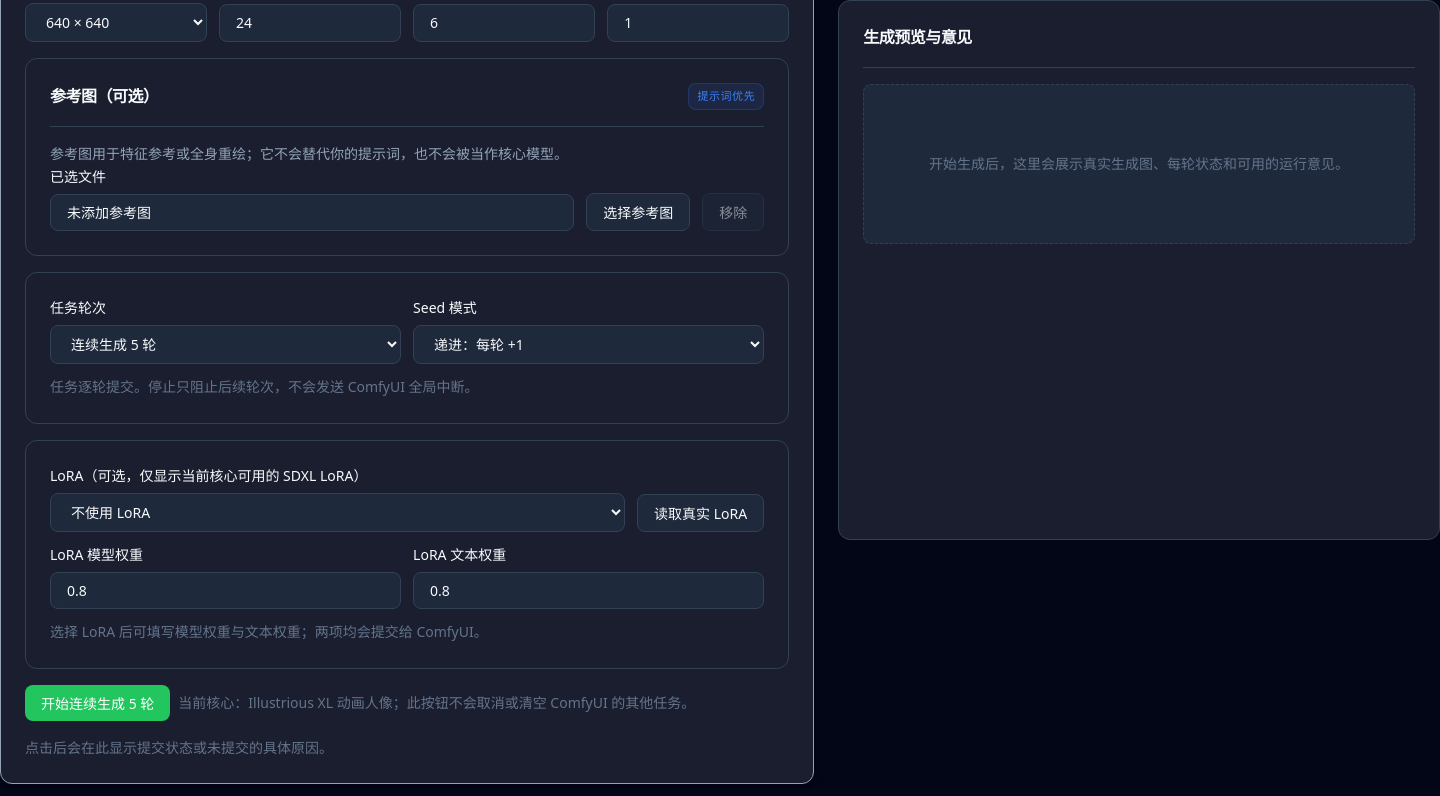
Test: ImageStudio › explains why a real task was not submitted when the positive prompt is empty
This screenshot has width=1440, height=796.
(page scrolled)
Click the button "开始连续生成 5 轮" at point(98, 703), box [25, 685, 170, 721]
(page scrolled)
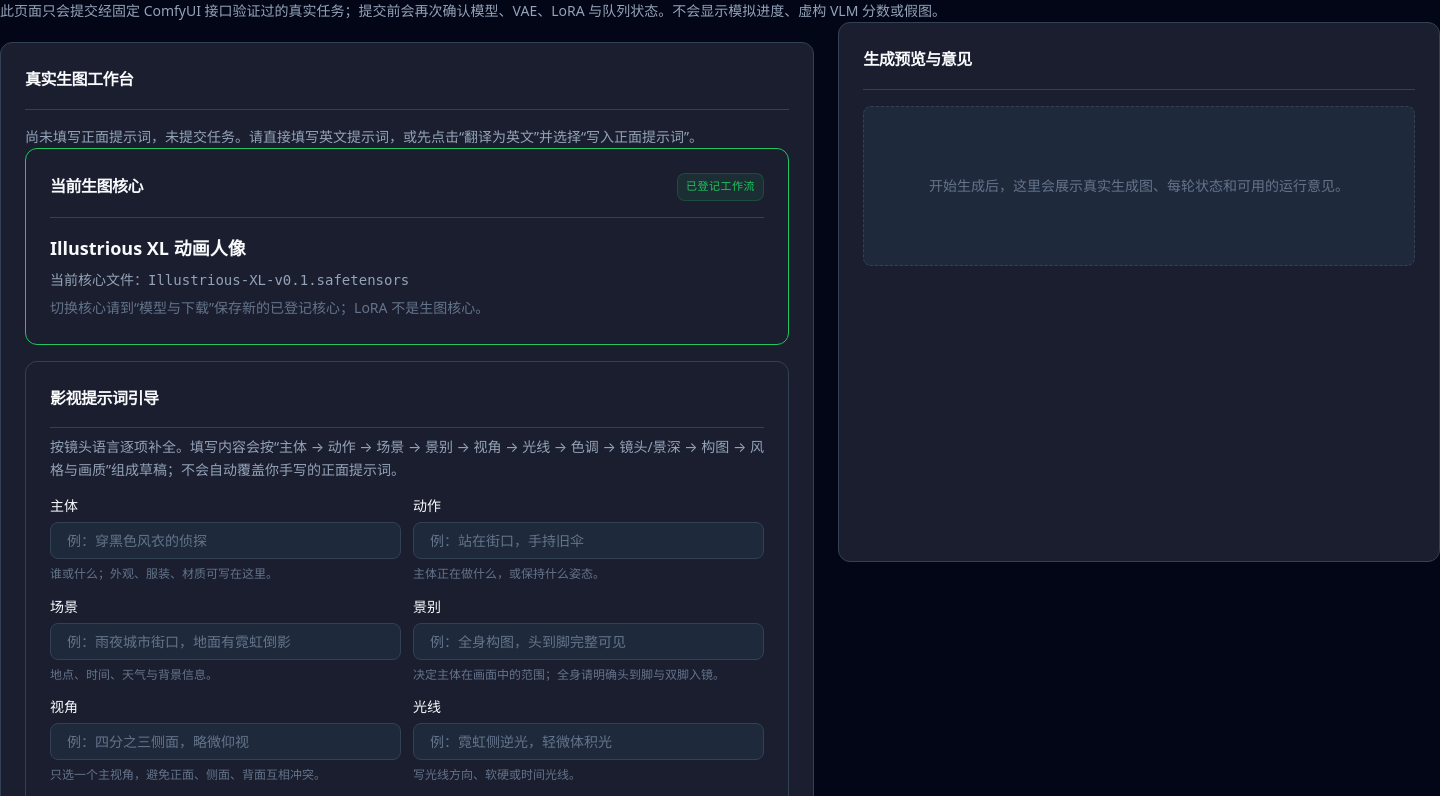
Check: the text "尚未填写正面提示词，未提交任务。请直接填写英文提示词，或先点击“翻译为英文”并选择“写入正面提示词”。" is shown, box [25, 126, 789, 148]
